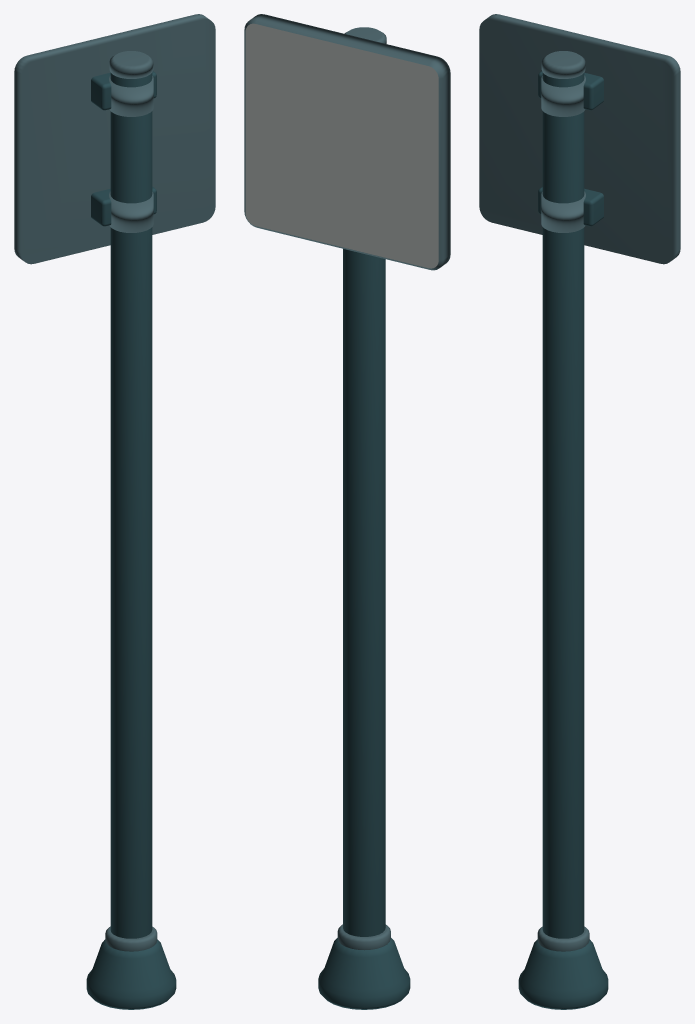
The model's file is city_traffic_fixtures_03.glb.
The picture shows the model from 3 angles, left to right: view 1: azimuth 30°, elevation 25°; view 2: azimuth 150°, elevation 25°; view 3: azimuth 330°, elevation 25°; orthographic projection. The views are drawn at different scales.
Parts seen in each view (by area): view 1: CityTrafficFixtures03_Mesh; view 2: CityTrafficFixtures03_Mesh; view 3: CityTrafficFixtures03_Mesh.
Boxes of the visible parts, x1=… form: CityTrafficFixtures03_Mesh: x1=14, y1=14, x2=215, y2=1009; CityTrafficFixtures03_Mesh: x1=244, y1=14, x2=450, y2=1009; CityTrafficFixtures03_Mesh: x1=479, y1=14, x2=680, y2=1009.
Size of the model in its own units: 0.7 by 3.25 by 0.28.
